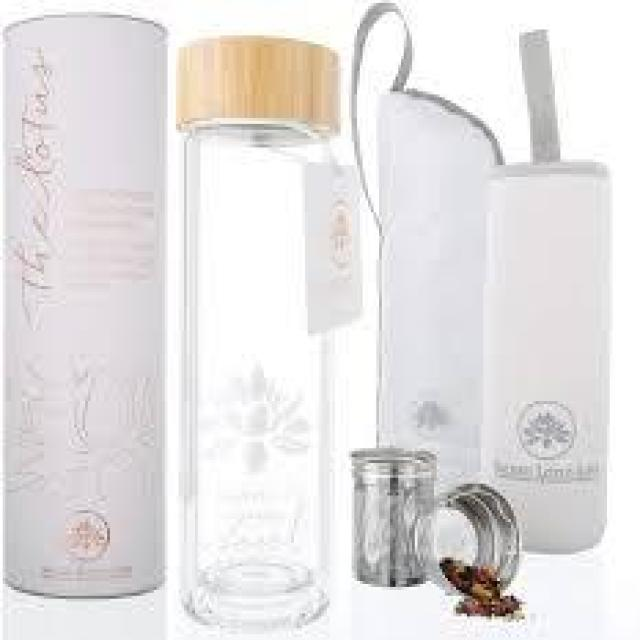bottle: (177, 41, 345, 640)
